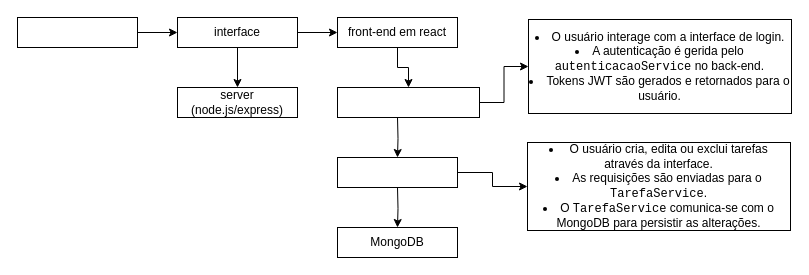
Image size: 809x275. Some labels were removed from this diagram. Each missing label, with the box of its shape:
autenticacaoService: (336, 86, 480, 118)
tarefaService: (336, 156, 458, 188)
usuario: (16, 16, 138, 48)
